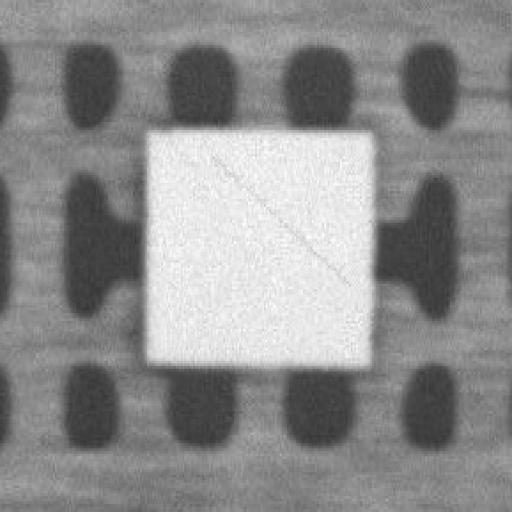DIE_CRACK: (315, 104, 512, 188)
